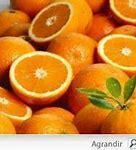orange: (9, 46, 75, 105), (16, 1, 82, 43), (22, 107, 92, 144), (65, 64, 126, 104), (48, 33, 104, 69), (97, 30, 136, 71), (1, 88, 38, 127), (0, 11, 34, 36)
